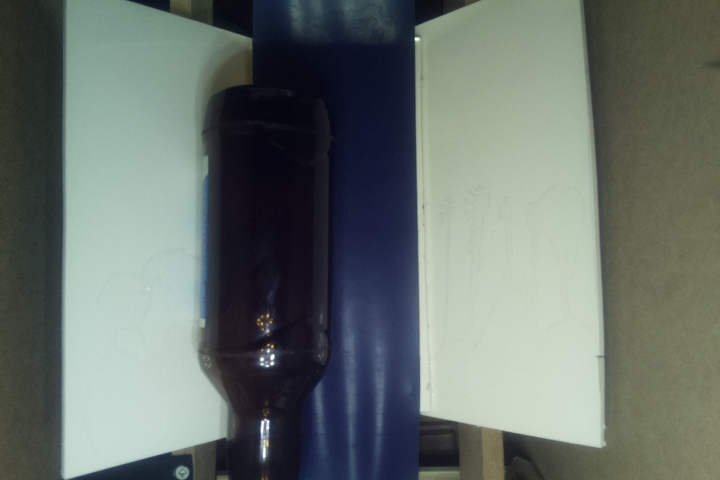makju: (198, 83, 335, 480)
